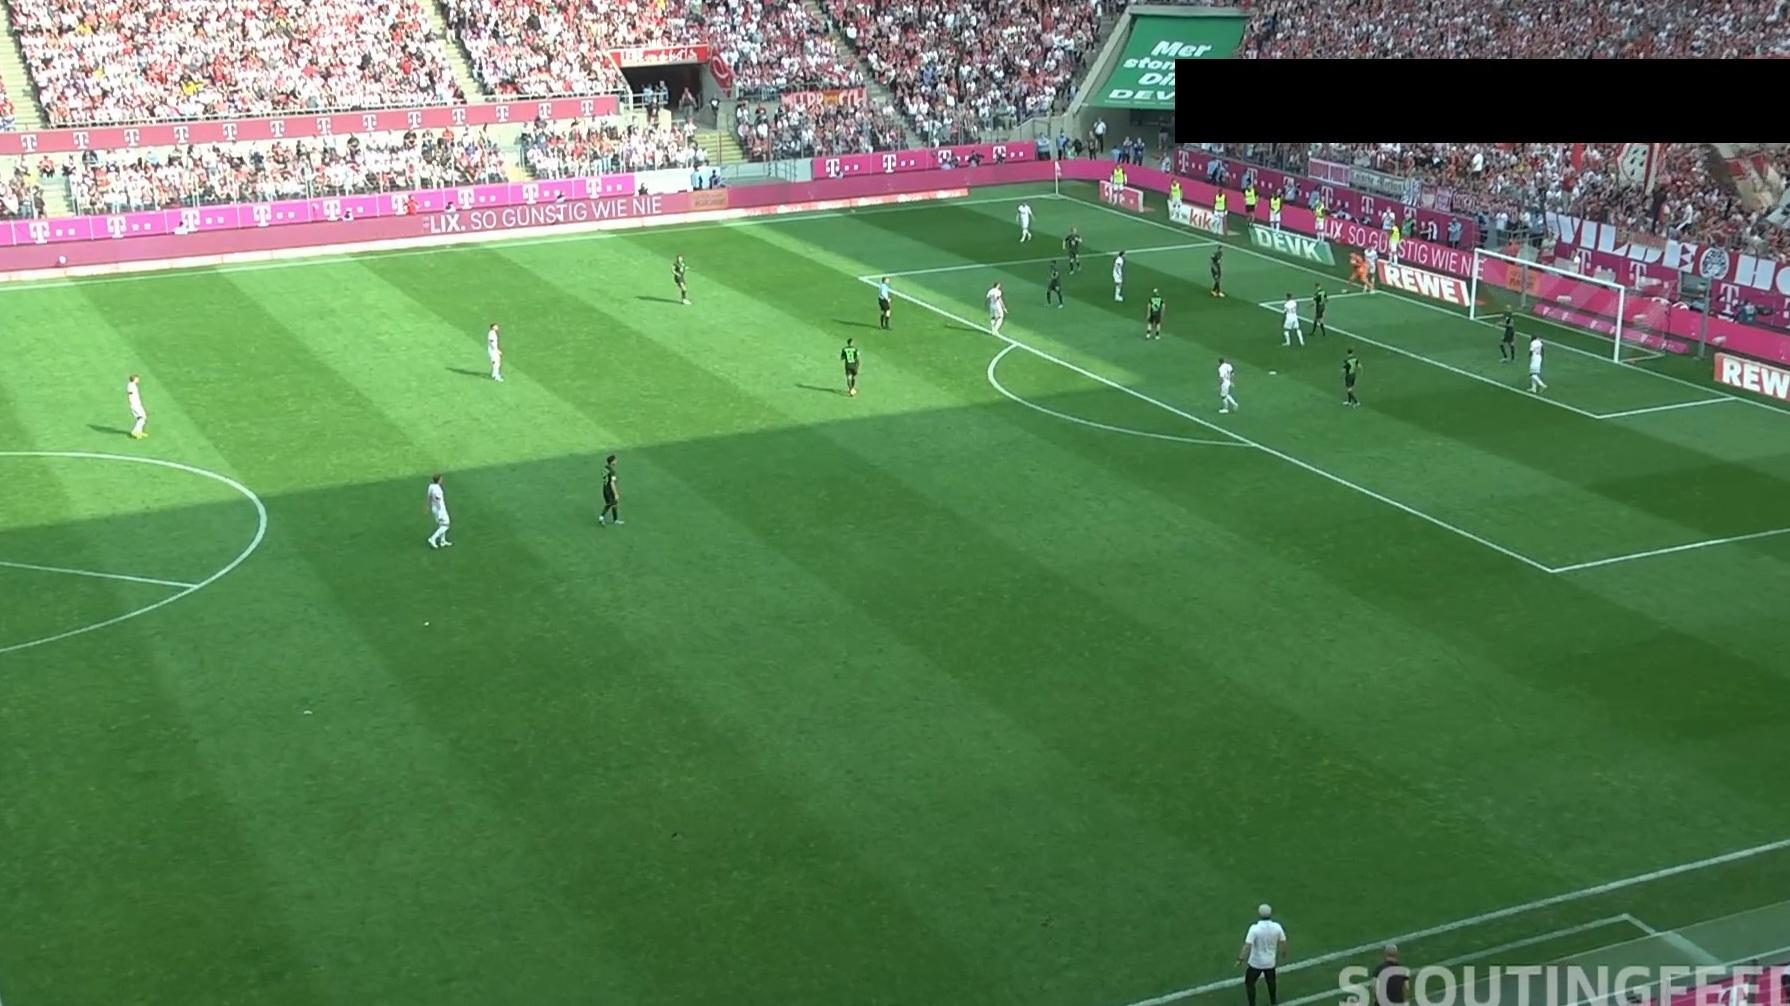ball: (1350, 257, 1357, 266)
